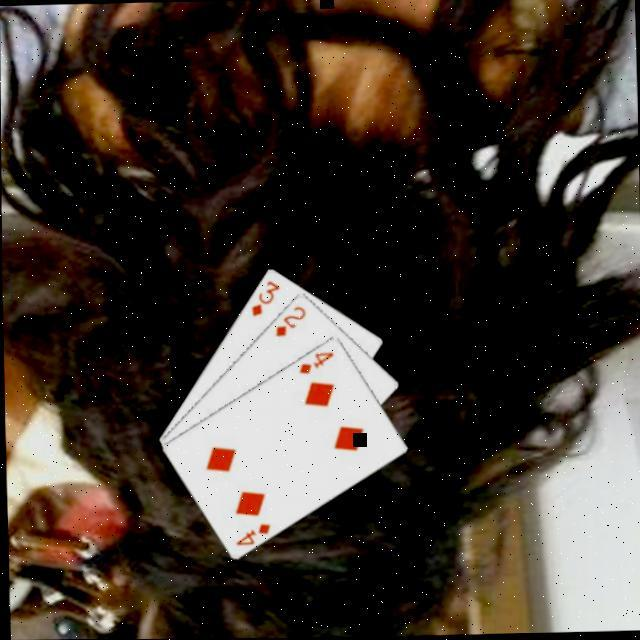2D: (272, 304, 311, 341)
3D: (248, 278, 284, 321)
4D: (296, 350, 338, 379), (233, 520, 275, 549)
